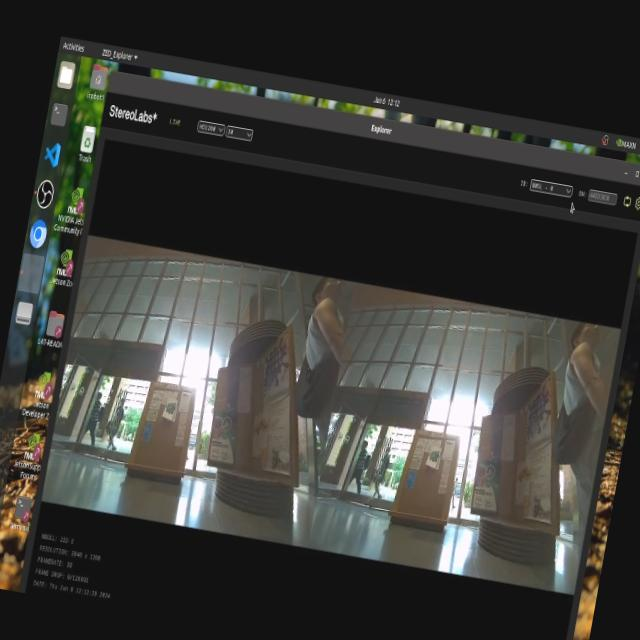green: (427, 449, 445, 476), (162, 398, 180, 419)
